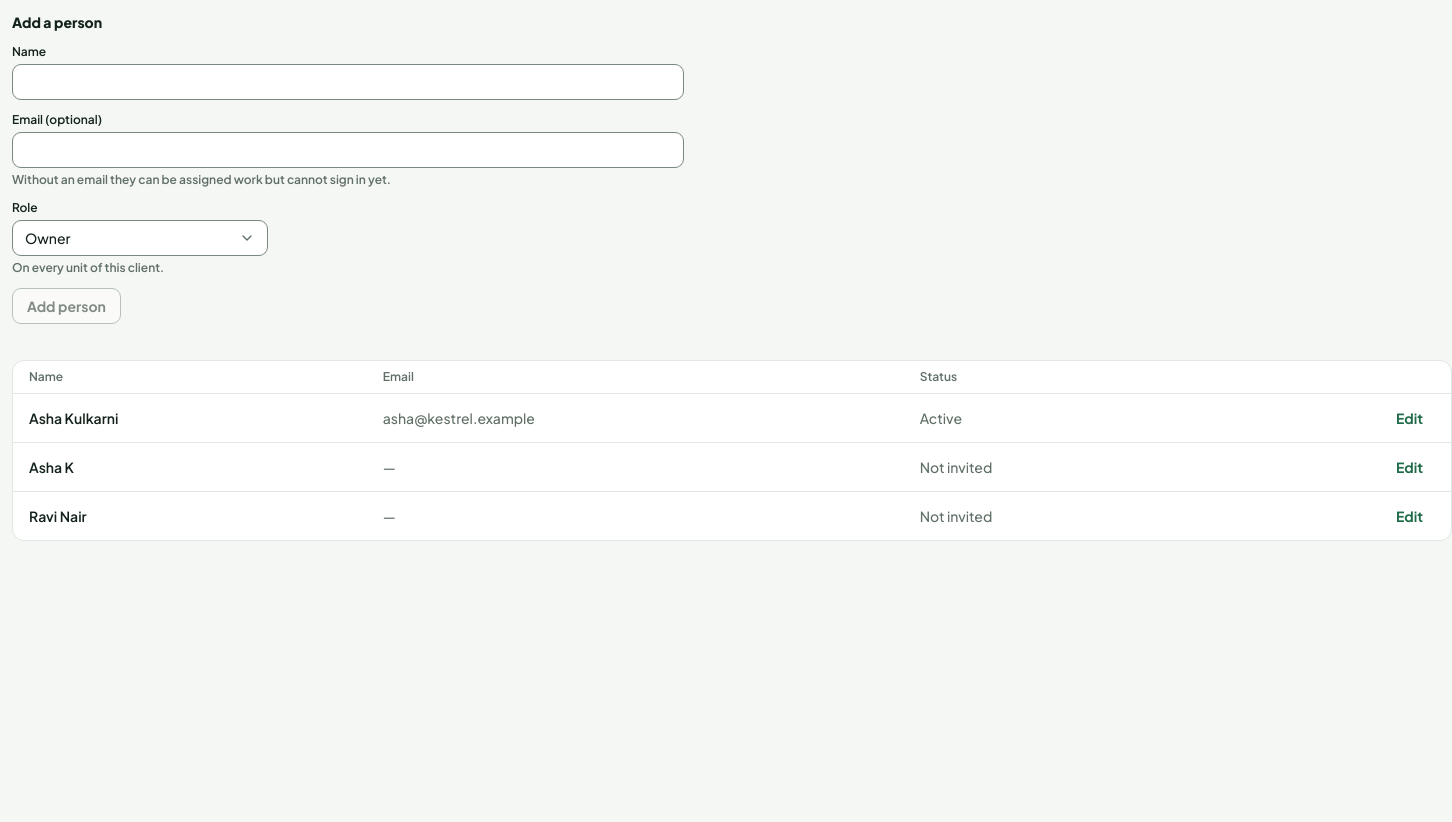
Test case: PeopleView › shows a refused add
Type "Asha" into the field labelled "Name".
click(348, 82); type("Asha")  # box [12,64,684,100]
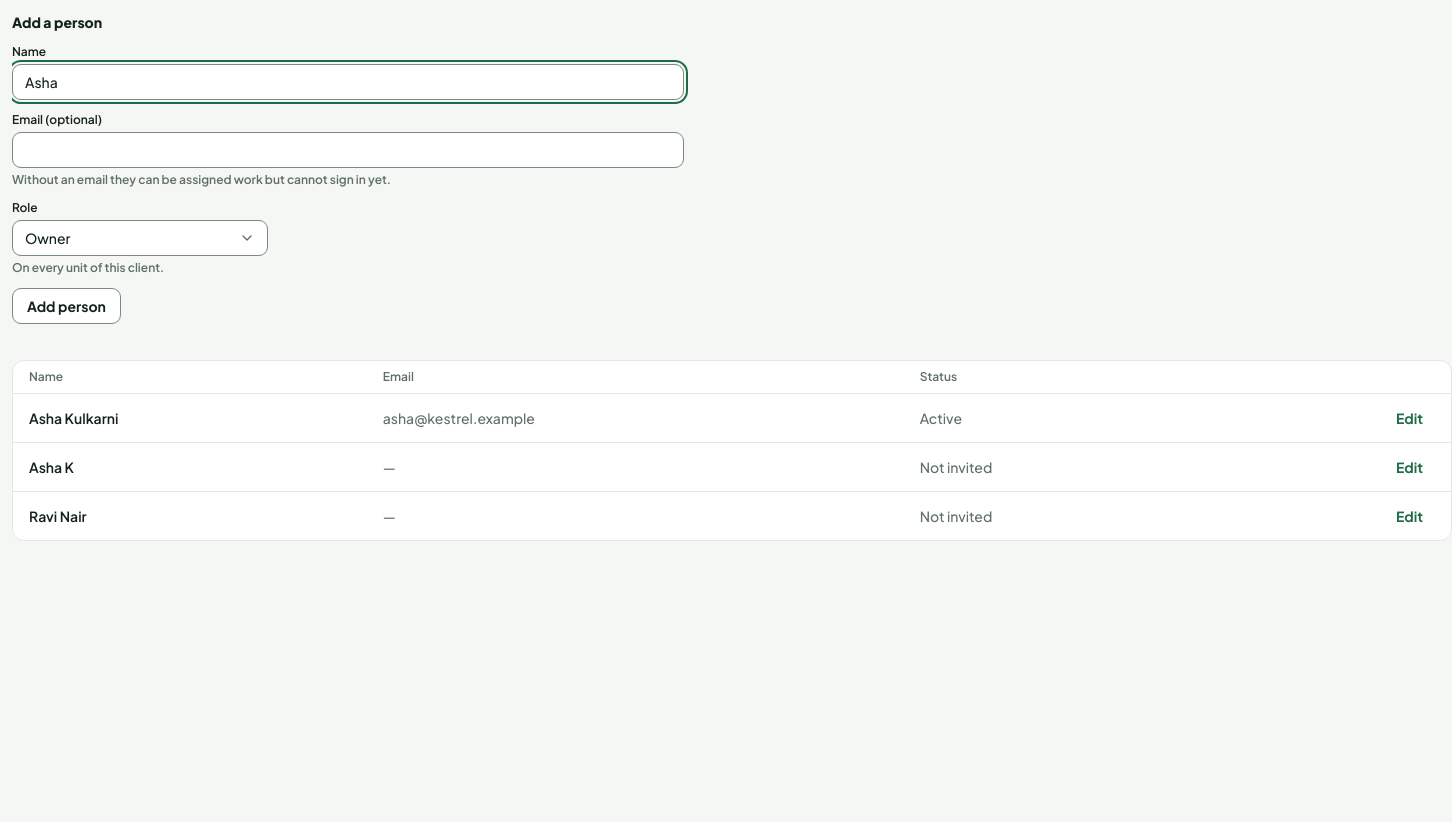
Type "asha@kestrel.example" into the field labelled "Email (optional)".
click(348, 150); type("asha@kestrel.example")  # box [12,132,684,168]
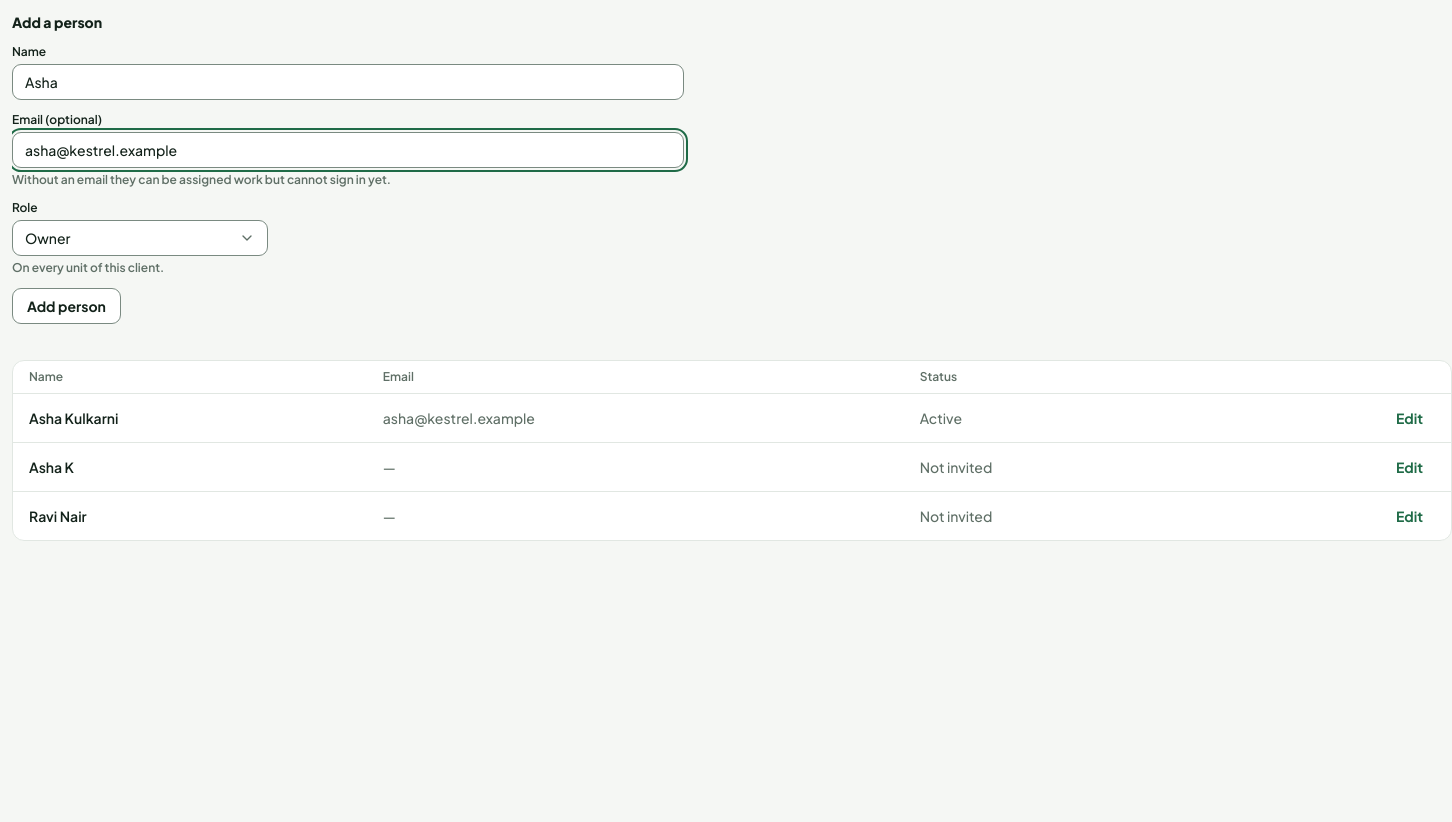
Click the button "Add person".
click(66, 306)  # box [12,288,121,324]
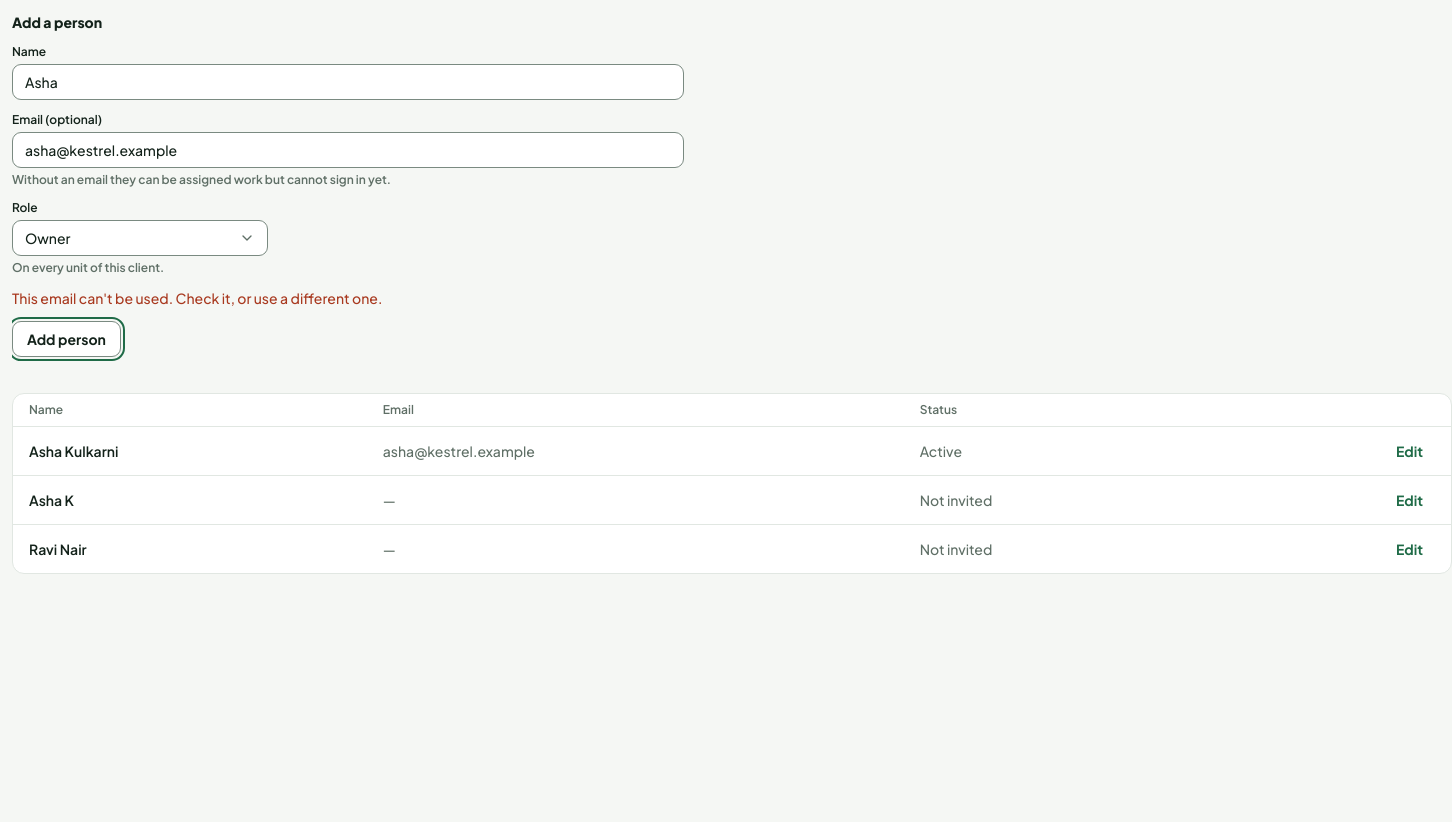
Expected: the message reads "This email can't be used. Check it, or use a different one.", [12,289,382,307]
